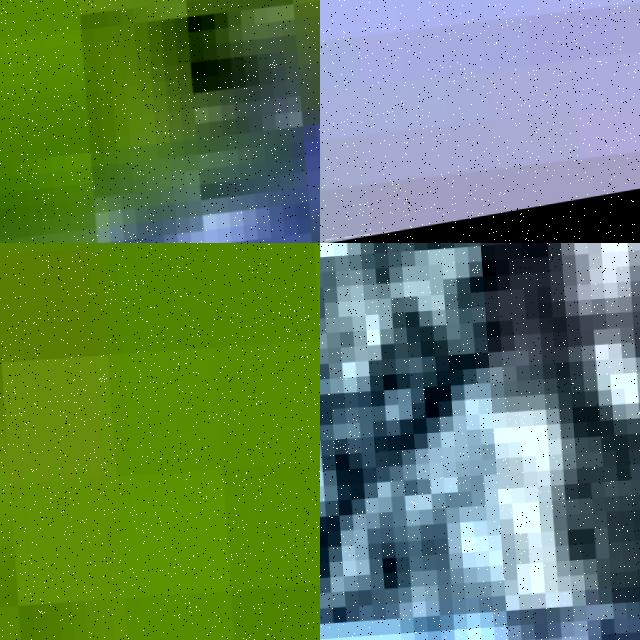drone: (0, 0, 320, 243), (320, 0, 640, 243)
